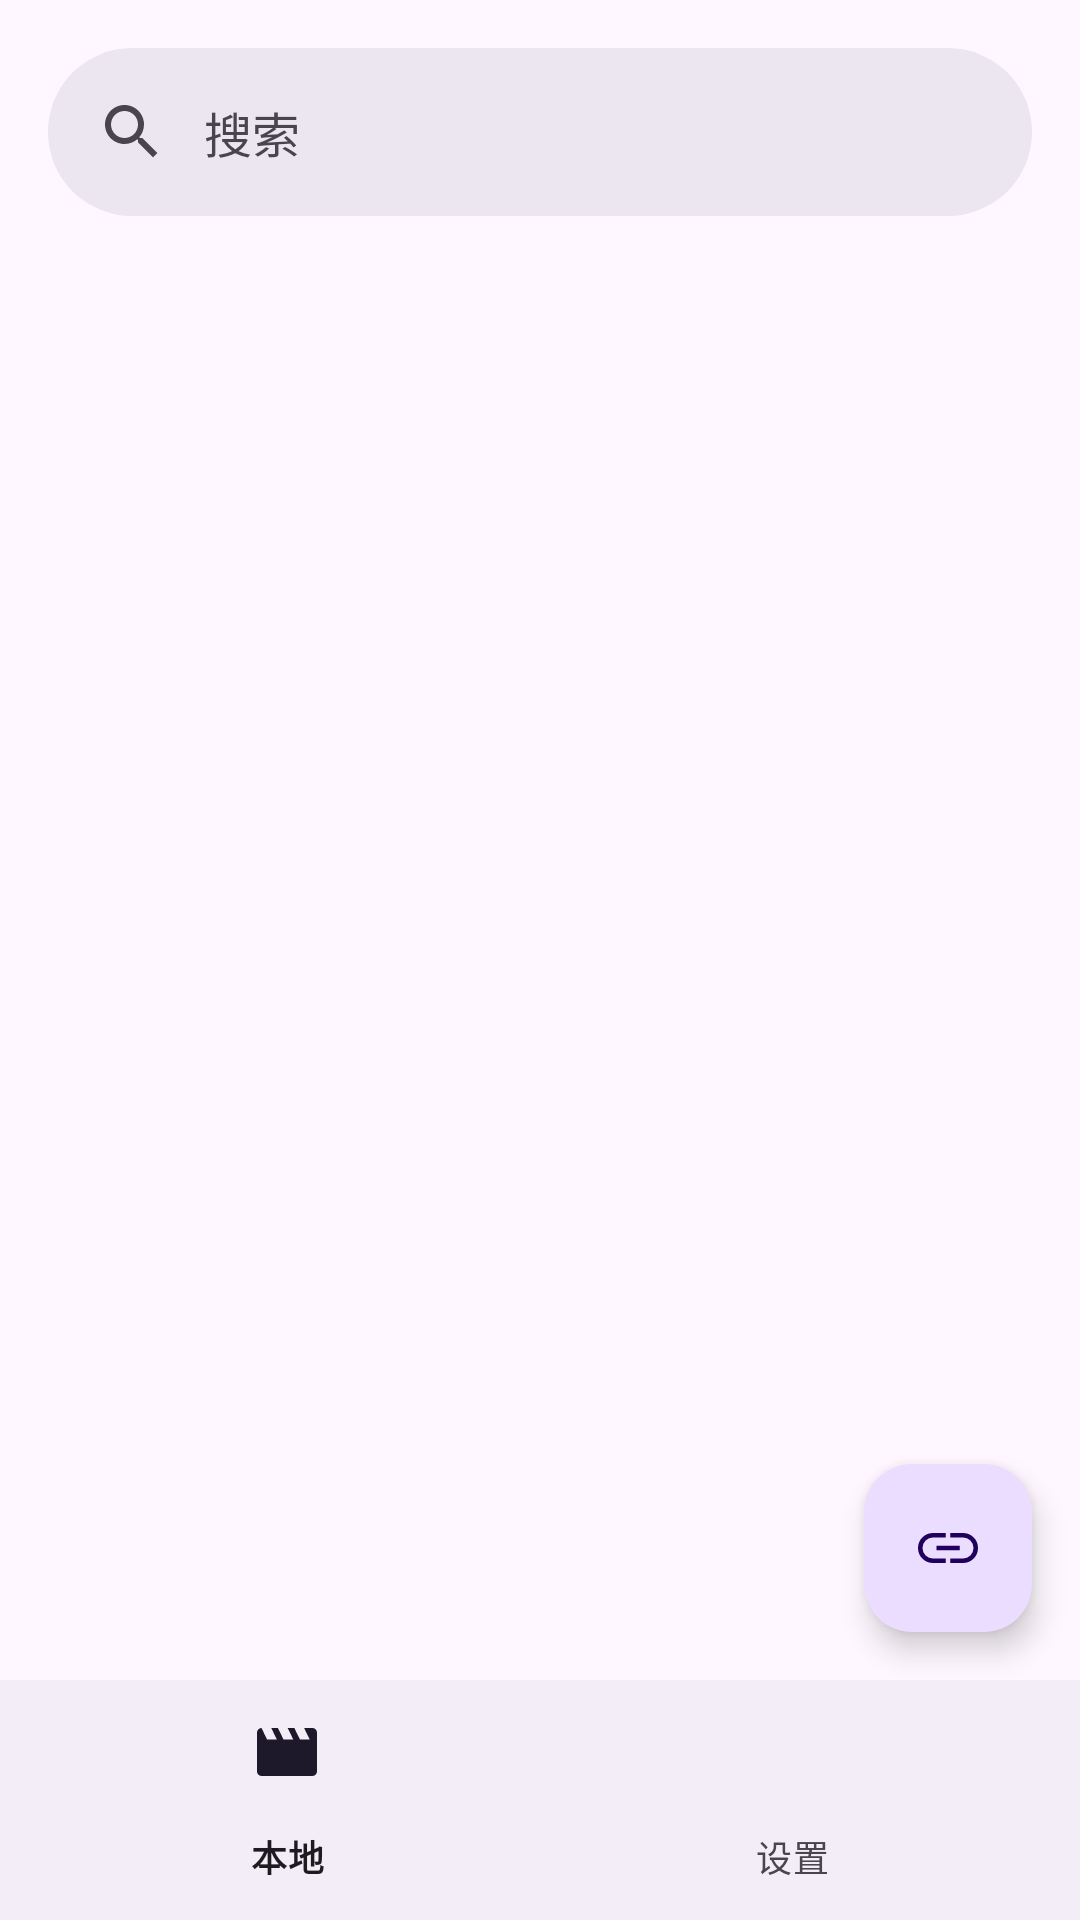

Icons on this 1080 × 1920 Android screen, each with its box as (x1, y1, x2, y2):
在线视频: (864, 1464, 1032, 1632)
